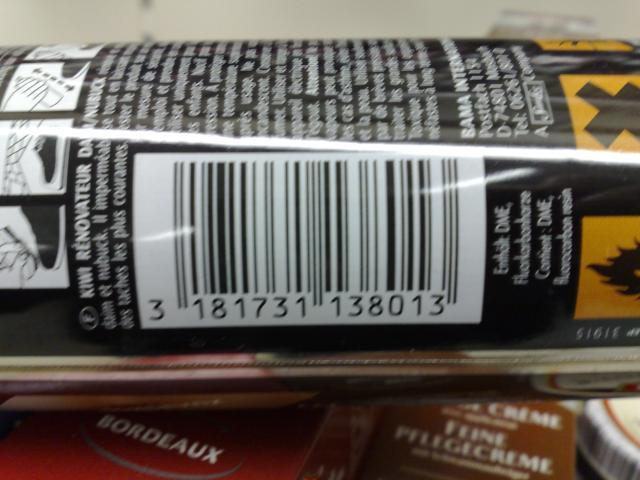Barcode: (130, 147, 486, 330)
